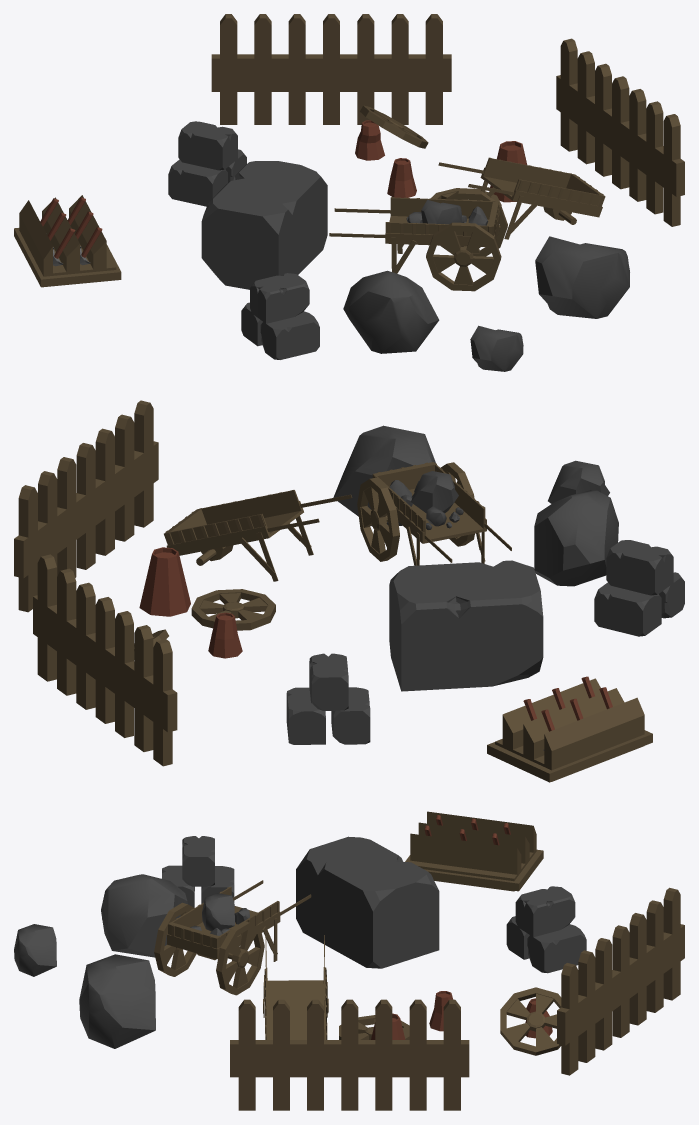
Rendered from QuarryLVL2.fbx.
The picture shows the model from 3 angles, top to bottom: view 1: azimuth 30°, elevation 25°; view 2: azimuth 150°, elevation 25°; view 3: azimuth 270°, elevation 25°; orthographic projection. The views are drawn at different scales.
Parts seen in each view (by area): view 1: Cube.034, Cube.035, Cube.010, Cube.004, Cube.005, Cube, Cube.031, Cube.027, Cube.030, Cube.026, Cube.025, Cube.001 (+8 smaller); view 2: Cube.010, Cube.034, Cube.035, Cube.031, Cube.004, Cube.027, Cube, Cube.005, Cube.026, Cube.011, ель.004, Cube.028 (+8 smaller); view 3: Cube.035, Cube.010, Cube.034, Cube.031, Cube.004, Cube.005, Cube, Cube.027, Cube.029, Cube.030, Cube.002, Cube.003 (+7 smaller).
Part boxes in pixels (bbox=[...]): Cube.034: bbox=[211, 14, 451, 124]; Cube.035: bbox=[556, 38, 684, 226]; Cube.010: bbox=[201, 161, 327, 289]; Cube.004: bbox=[329, 190, 507, 291]; Cube.005: bbox=[535, 236, 629, 318]; Cube: bbox=[343, 270, 439, 353]; Cube.031: bbox=[14, 195, 121, 287]; Cube.027: bbox=[438, 157, 605, 239]; Cube.030: bbox=[178, 121, 237, 170]; Cube.026: bbox=[250, 273, 309, 323]; Cube.025: bbox=[260, 311, 319, 359]; Cube.001: bbox=[168, 159, 227, 206]; Cube.010: bbox=[389, 560, 543, 691]; Cube.034: bbox=[33, 554, 177, 766]; Cube.035: bbox=[14, 400, 158, 612]; Cube.031: bbox=[487, 678, 652, 782]; Cube.004: bbox=[357, 462, 511, 565]; Cube.027: bbox=[164, 490, 352, 581]; Cube: bbox=[534, 490, 618, 586]; Cube.005: bbox=[333, 425, 435, 526]; Cube.026: bbox=[606, 540, 673, 595]; Cube.011: bbox=[594, 582, 661, 636]; ель.004: bbox=[139, 547, 190, 616]; Cube.028: bbox=[191, 589, 275, 630]; Cube.035: bbox=[230, 999, 469, 1110]; Cube.010: bbox=[296, 836, 439, 968]; Cube.034: bbox=[557, 887, 684, 1075]; Cube.031: bbox=[405, 811, 543, 891]; Cube.004: bbox=[154, 880, 311, 995]; Cube.005: bbox=[79, 954, 155, 1048]; Cube: bbox=[101, 874, 187, 957]; Cube.027: bbox=[263, 935, 328, 1039]; Cube.029: bbox=[500, 987, 561, 1055]; Cube.030: bbox=[515, 886, 575, 937]; Cube.002: bbox=[527, 924, 586, 973]; Cube.003: bbox=[14, 924, 56, 976].
Bounding box in the file's own units: 808 × 151 × 862.
